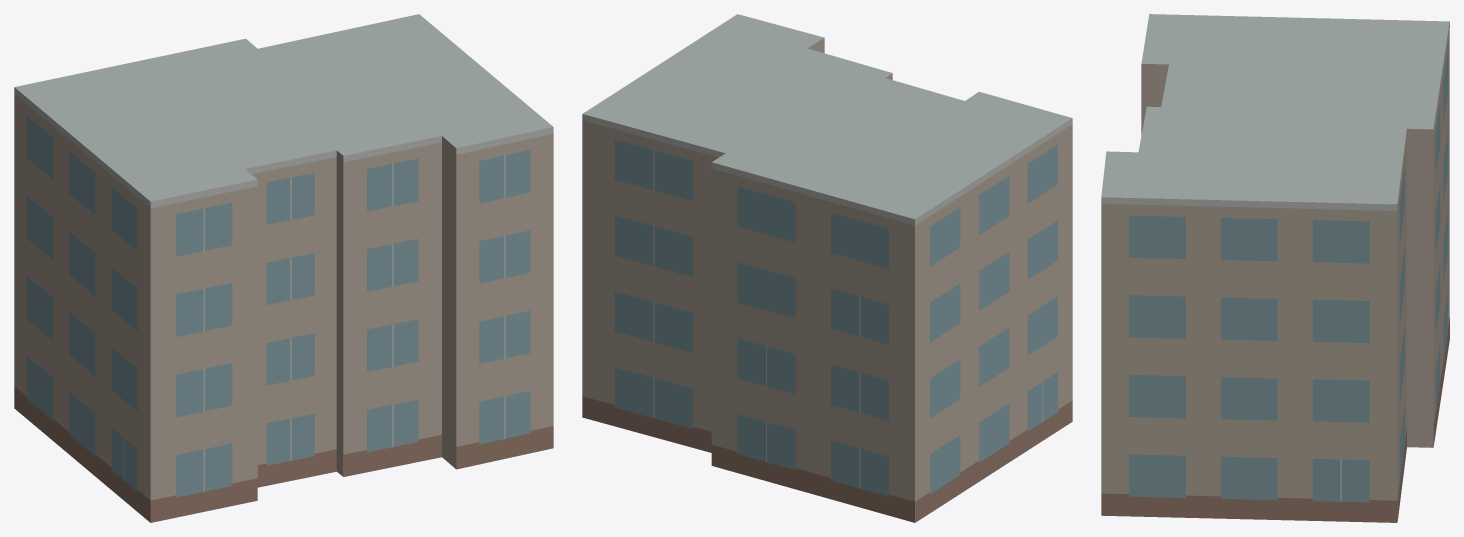
File: survey-upis-33040889.glb
The picture shows the model from 3 angles, left to right: view 1: azimuth 30°, elevation 25°; view 2: azimuth 150°, elevation 25°; view 3: azimuth 270°, elevation 25°; orthographic projection. The views are drawn at different scales.
Parts seen in each view (by area): view 1: survey-upis-33040889.tmp; view 2: survey-upis-33040889.tmp; view 3: survey-upis-33040889.tmp.
Part boxes in pixels (bbox=[...]): survey-upis-33040889.tmp: bbox=[14, 14, 553, 522]; survey-upis-33040889.tmp: bbox=[582, 14, 1072, 522]; survey-upis-33040889.tmp: bbox=[1101, 14, 1449, 522].
Size of the model in its own units: 15.21 by 11.85 by 11.76.
